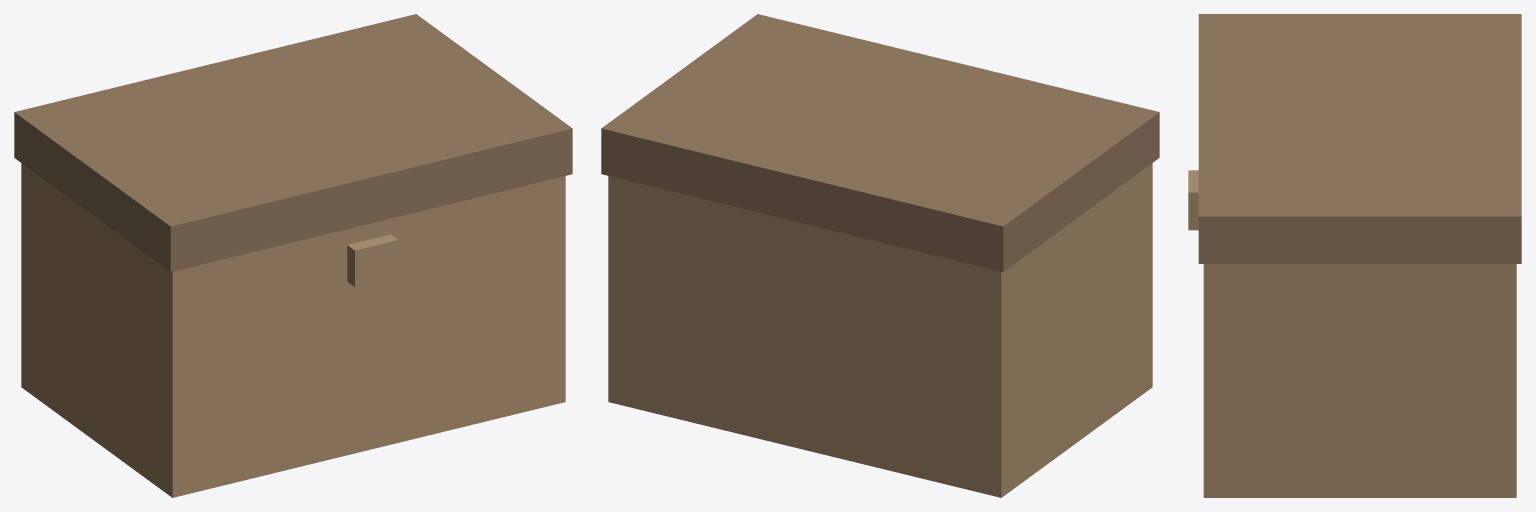
Rendered from chest.glb.
The picture shows the model from 3 angles, left to right: view 1: azimuth 30°, elevation 25°; view 2: azimuth 150°, elevation 25°; view 3: azimuth 270°, elevation 25°; orthographic projection. The views are drawn at different scales.
Parts seen in each view (by area): view 1: CHEST_BODY, MOB_LID; view 2: CHEST_BODY, MOB_LID; view 3: MOB_LID, CHEST_BODY.
Boxes of the visible parts, x1=… form: CHEST_BODY: x1=21, y1=163, x2=565, y2=497; MOB_LID: x1=14, y1=14, x2=572, y2=271; CHEST_BODY: x1=608, y1=163, x2=1152, y2=497; MOB_LID: x1=601, y1=14, x2=1159, y2=271; MOB_LID: x1=1198, y1=14, x2=1521, y2=263; CHEST_BODY: x1=1188, y1=170, x2=1516, y2=497.
Bounding box in the file's own units: 0.92 × 0.6 × 0.64.
